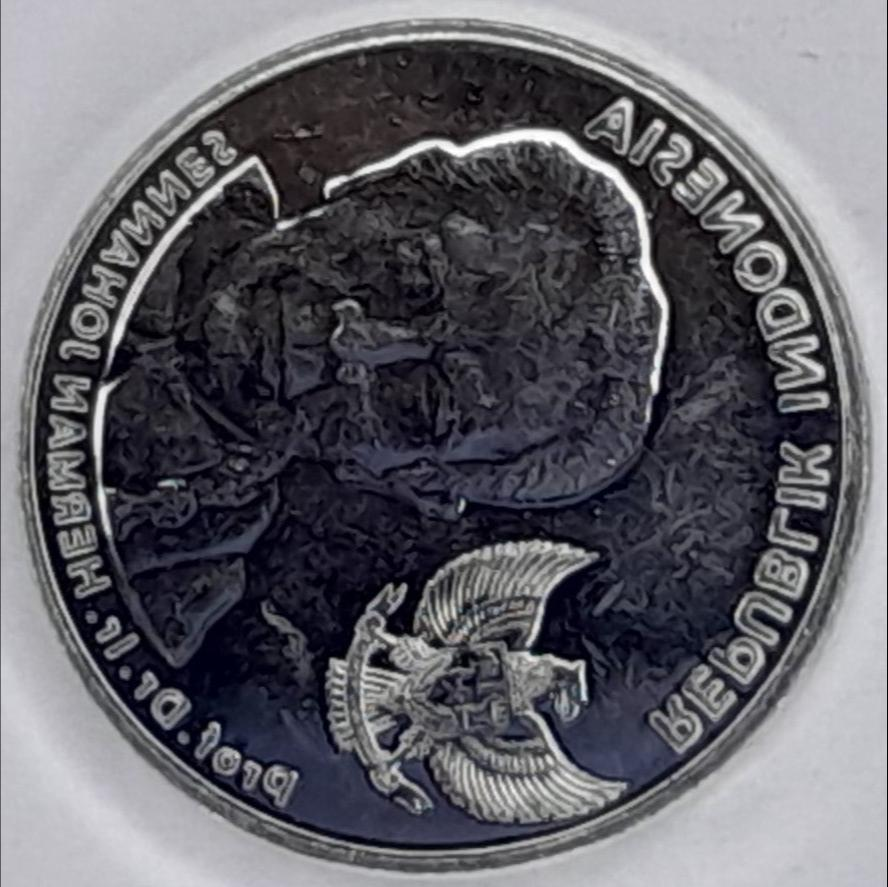coin_100_e2016: (14, 12, 869, 874)
